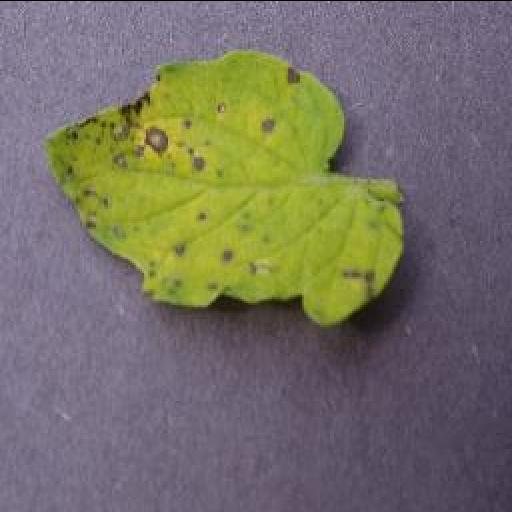disease_tomato: (42, 46, 408, 328)
